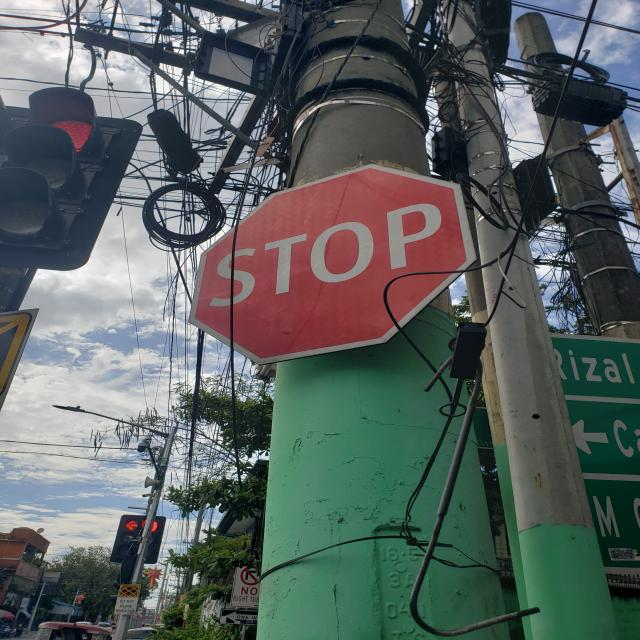stop-sign: (188, 163, 478, 366)
